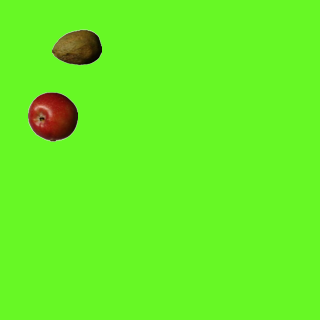Apple Braeburn: (27, 91, 77, 141)
Papaya: (51, 22, 101, 72)
